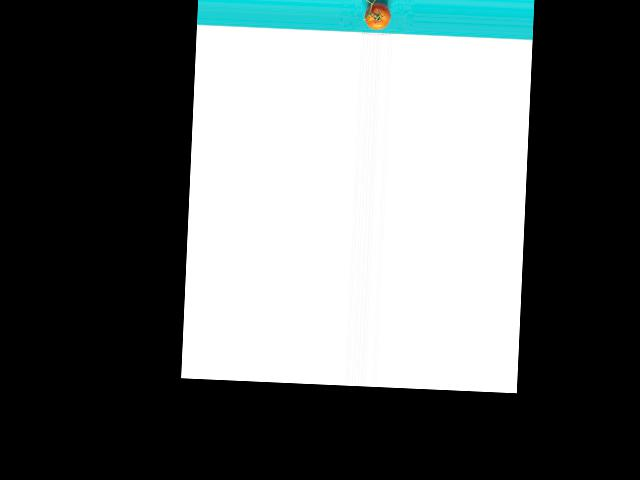tomato: (363, 3, 390, 29)
